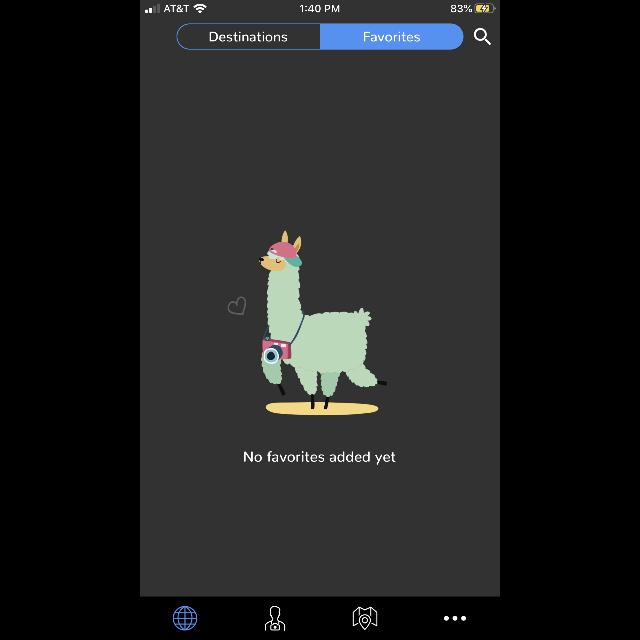icon: (352, 606, 378, 630), (265, 606, 285, 630), (474, 28, 491, 46), (444, 616, 466, 620)
image: (228, 230, 388, 416), (173, 606, 197, 630)
text: (244, 452, 396, 464)
textbutton: (176, 24, 320, 50), (321, 24, 464, 50)
uppertaskbar: (140, 0, 500, 14)
